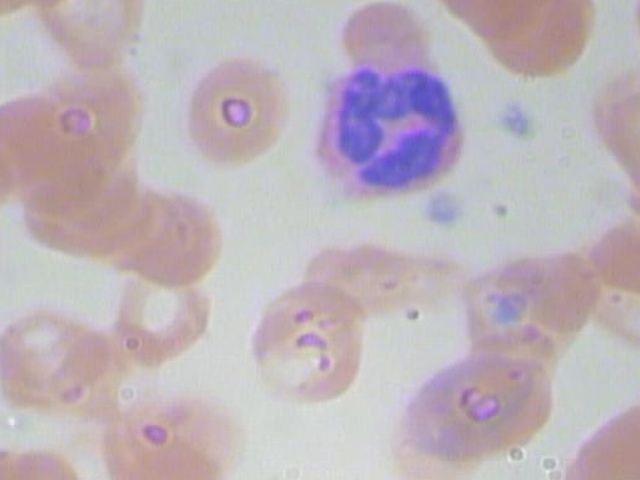Platelets: (489, 93, 539, 146)
RBC: (395, 337, 559, 467), (449, 242, 604, 361), (234, 282, 374, 402), (165, 49, 305, 169), (91, 384, 250, 480), (44, 154, 176, 269), (12, 152, 145, 266), (95, 179, 228, 293), (31, 48, 151, 159), (19, 125, 139, 236), (292, 223, 417, 323), (105, 256, 220, 364), (26, 325, 141, 432), (464, 0, 604, 80), (16, 0, 157, 77), (322, 0, 449, 85), (0, 306, 96, 413), (0, 88, 85, 199), (553, 385, 640, 480), (0, 433, 97, 480), (0, 127, 18, 229), (0, 196, 13, 298)
WBC: (307, 61, 469, 199)
